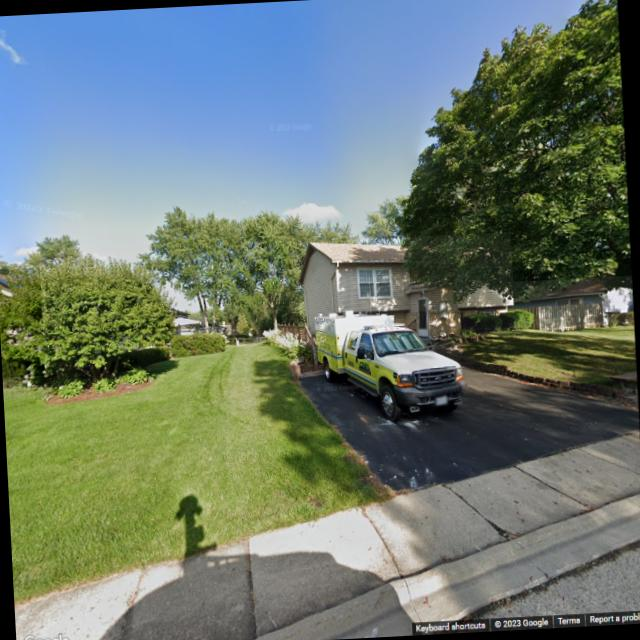House: (296, 232, 516, 348), (506, 276, 634, 334), (0, 268, 45, 378)
